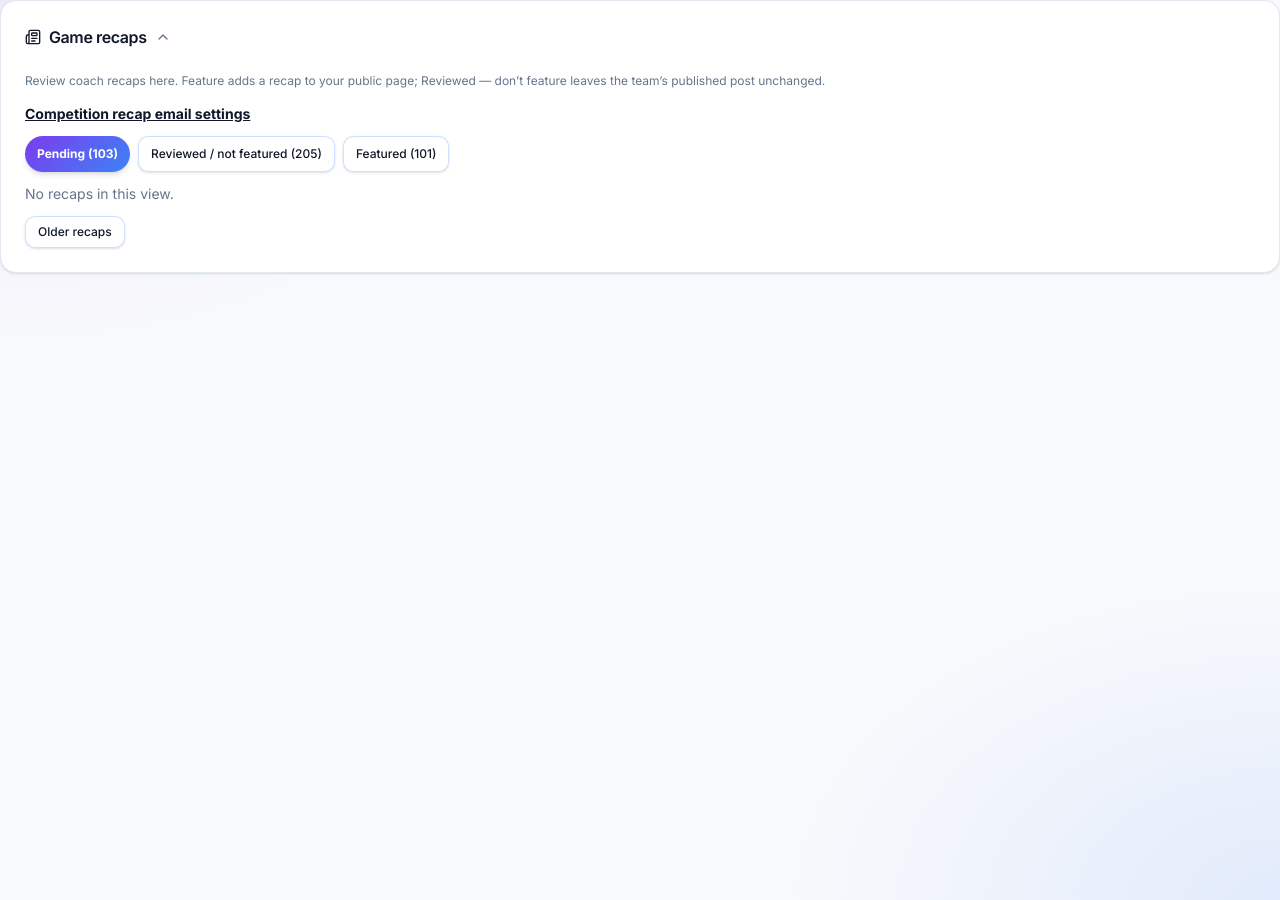
Scenario: competition review console › lets an administrator reach older outstanding rows rather than stopping at 100
The width and height of the screenshot is (1280, 900).
Click the button "Older recaps": (75, 232) 25,216 -> 125,248
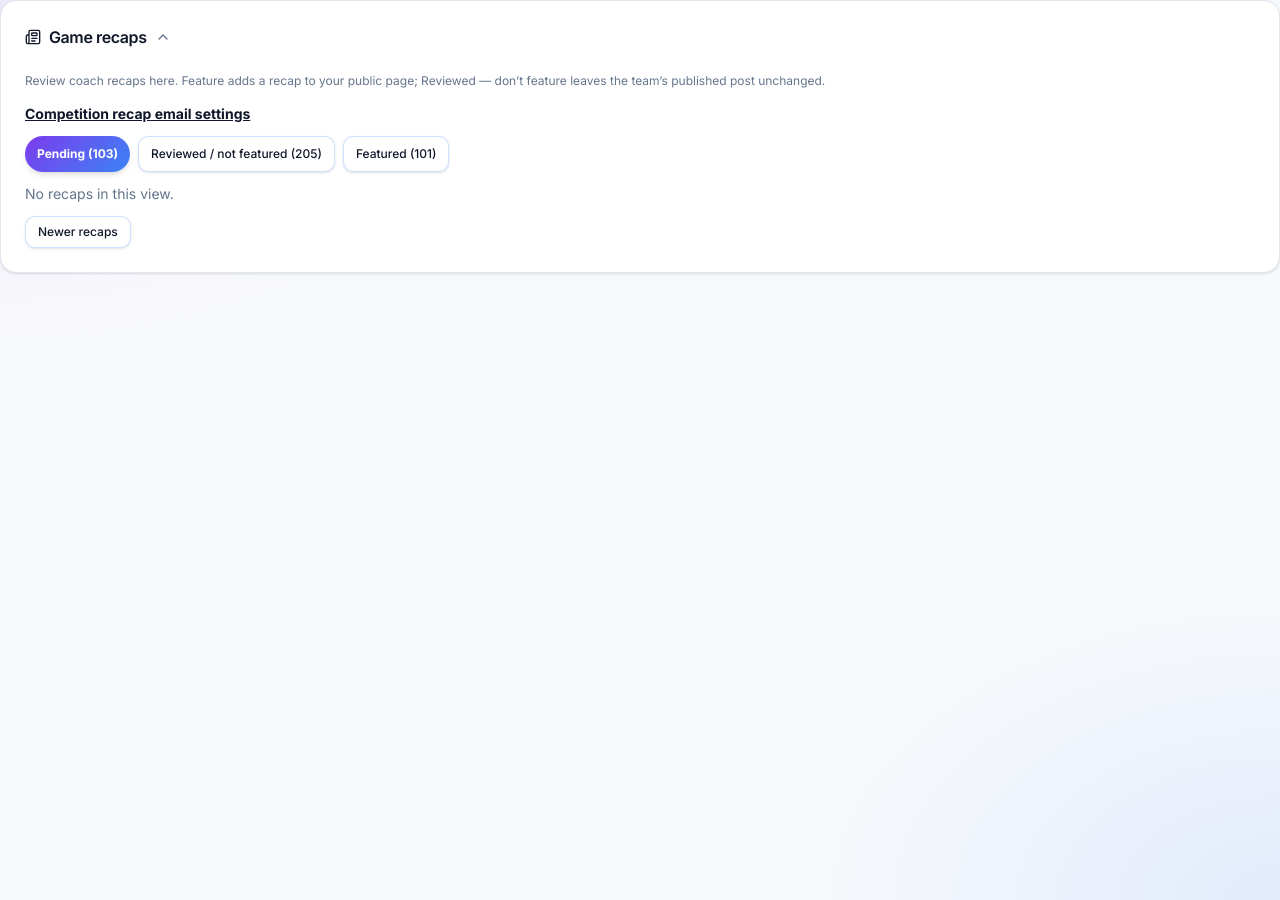
Expected: the button "Reviewed / not featured (205)" is shown, 138,136 -> 335,172
Expected: the button "Newer recaps" is shown, 25,216 -> 131,248
